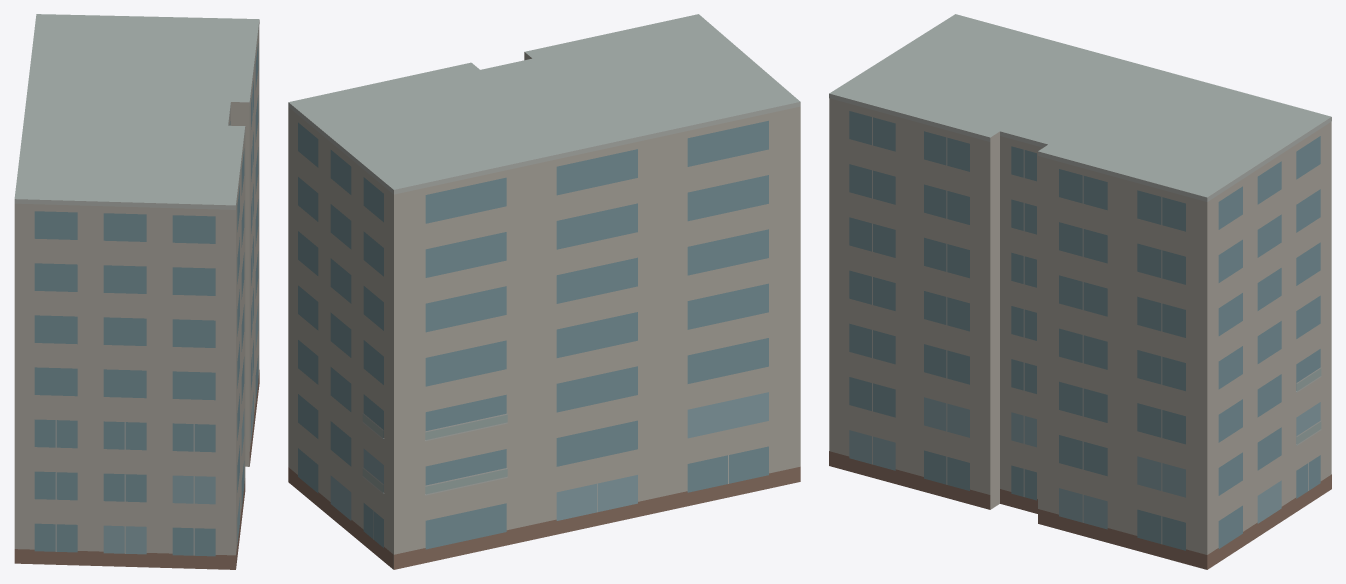
Rendered from survey-upis-32747765.glb.
3 views of the same model, side by side, from view 1: azimuth 30°, elevation 25°; view 2: azimuth 150°, elevation 25°; view 3: azimuth 270°, elevation 25° (orthographic). The views are drawn at different scales.
Parts seen in each view (by area): view 1: survey-upis-32747765.tmp; view 2: survey-upis-32747765.tmp; view 3: survey-upis-32747765.tmp.
Boxes of the visible parts, <box> form: survey-upis-32747765.tmp: <box>14,14,259,569</box>; survey-upis-32747765.tmp: <box>288,14,800,569</box>; survey-upis-32747765.tmp: <box>829,14,1331,569</box>.
Size of the model in its own units: 20.73 by 19.6 by 23.99.
